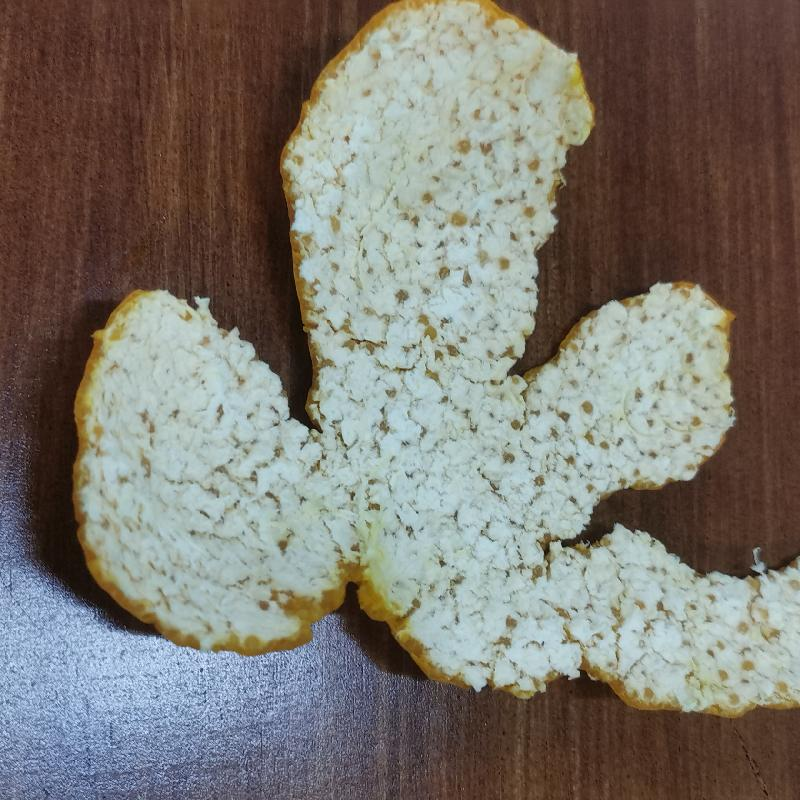orange: (73, 1, 800, 718)
